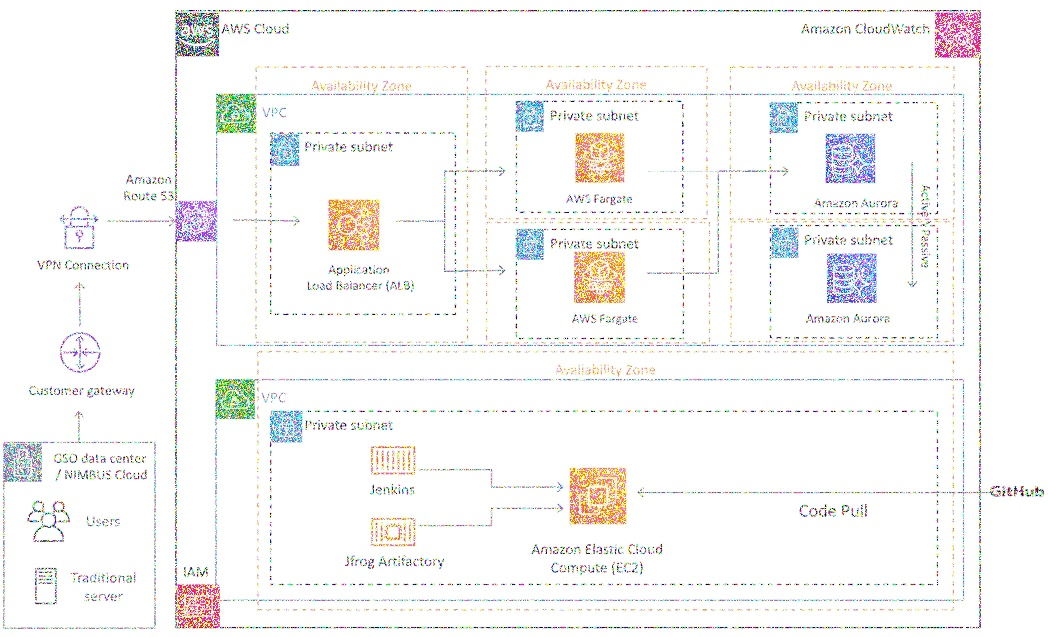Aurora: (822, 127, 880, 188), (825, 248, 882, 306)
Cloud Watch: (935, 5, 984, 62)
Container: (365, 508, 423, 550), (365, 440, 419, 482)
Customer Gateway: (53, 327, 105, 380)
EC2: (569, 464, 626, 528)
ELB: (323, 195, 384, 254)
Fargate: (572, 247, 629, 306), (572, 128, 628, 187)
IAM: (175, 582, 220, 628)
Private Subnet: (269, 410, 305, 446), (768, 225, 802, 261), (269, 131, 301, 166), (769, 101, 799, 136), (516, 98, 545, 134), (516, 227, 545, 261)
Route53: (176, 200, 219, 241)
Server: (29, 561, 65, 607)
Users: (22, 494, 78, 544)
VPN Connection: (50, 200, 105, 255)
aws: (174, 7, 218, 57)
